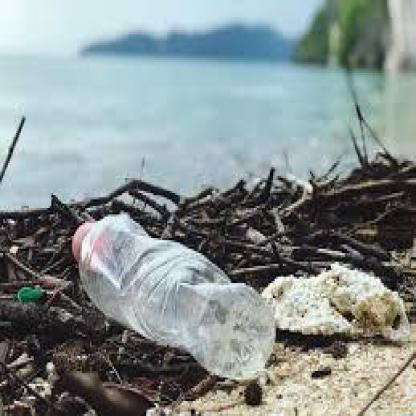plastic bottle: (72, 214, 273, 378)
